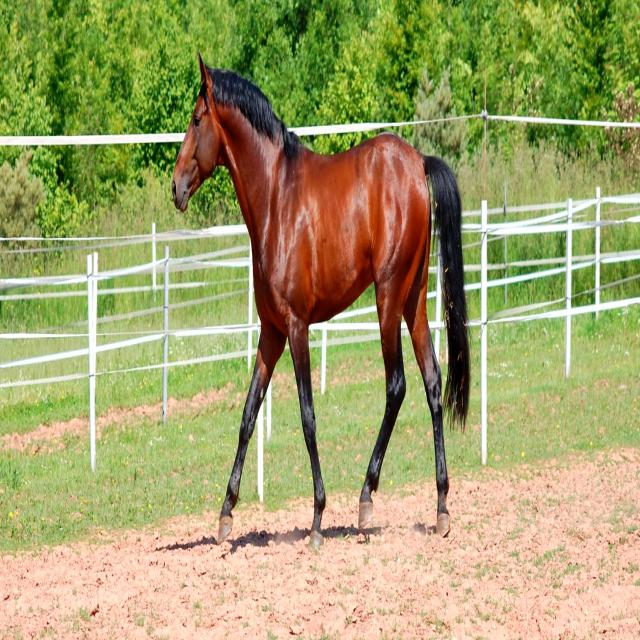horse: (171, 54, 470, 547)
